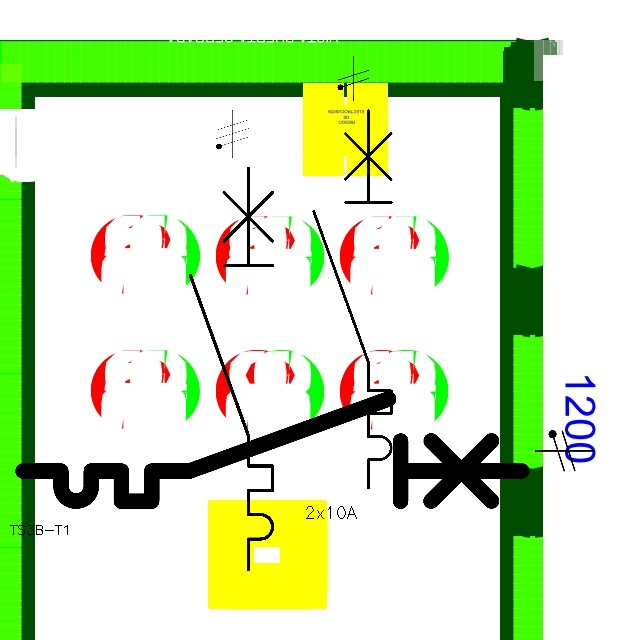interruptor_termomagnetico: (10, 386, 534, 514), (180, 157, 283, 579), (304, 100, 401, 497)
